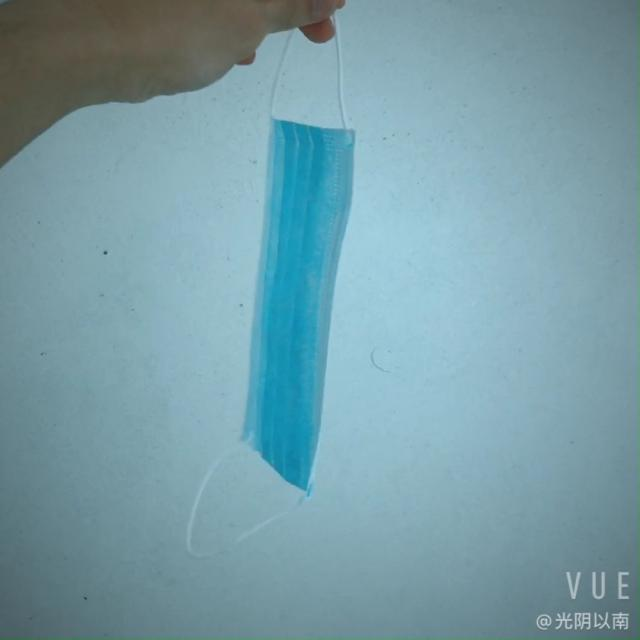non-organic waste: (200, 101, 375, 520)
